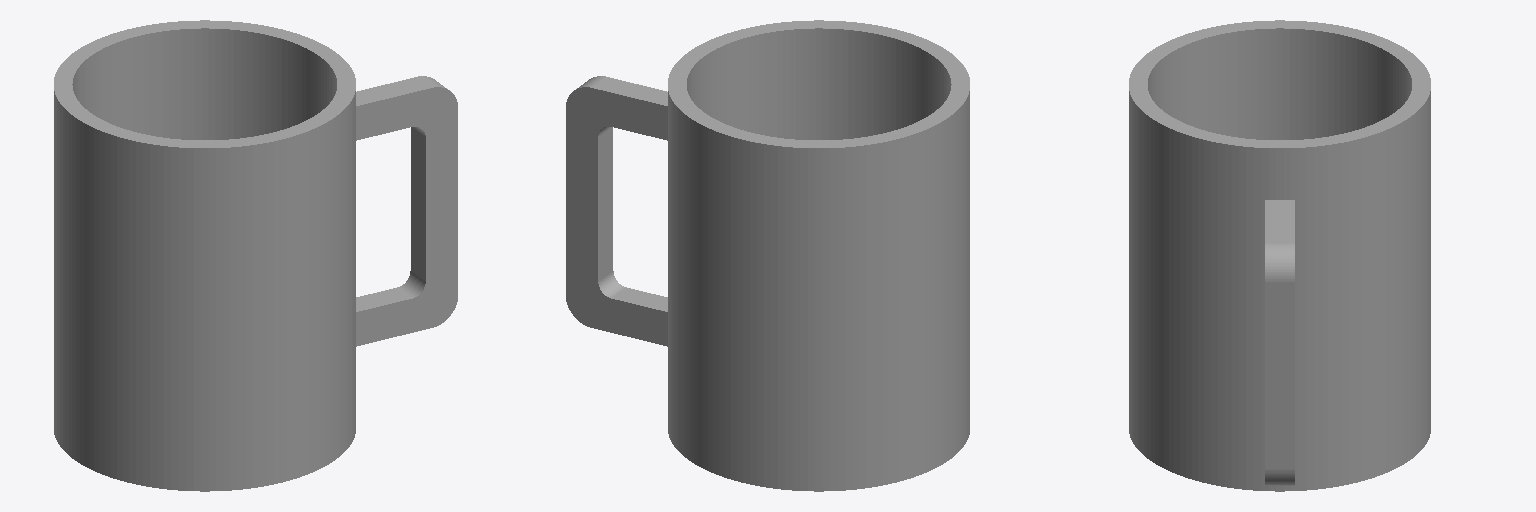
URDF robot description (object):
<?xml version="1.0"?>
<robot name="object">
  <link name="object">
    <visual>
      <origin xyz="0 0 0"/>
      <geometry>
        <mesh filename="mug.stl" scale="1 1 1"/>
      </geometry>
      <material name="multicolor">
        <color rgba="0.7 0.7 0.7 1.0"/>
      </material>
    </visual>
    <collision>
      <origin xyz="0 0 0"/>
      <geometry>
        <mesh filename="mug_decomp.obj" scale="1 1 1"/>
      </geometry>
    </collision>
    <inertial>
      <mass value="0.10"/>
      <inertia ixx="0.0001" ixy="0.0" ixz="0.0" iyy="0.0001" iyz="0.0" izz="0.0001"/>
    </inertial>
  </link>
</robot>

--- Facts derived from the render (not from the file) ---
3 views of the same robot in one strip: view 1: azimuth 30°, elevation 25°; view 2: azimuth 150°, elevation 25°; view 3: azimuth 270°, elevation 25° (orthographic).
Robot: object — 1 links, 0 joints (none); root link object; default pose: all joints at 0.
Links seen in each view (by area): view 1: object; view 2: object; view 3: object.
Boxes of the visible links, bbox=[...] form: object: bbox=[54, 20, 457, 491]; object: bbox=[566, 20, 969, 491]; object: bbox=[1129, 20, 1430, 491].
Bounding box of the posed robot: 0.115 × 0.08 × 0.1 m (x, y, z).
Meshes: 1 distinct files referenced, 1 mesh visuals loaded (1 binary STL).